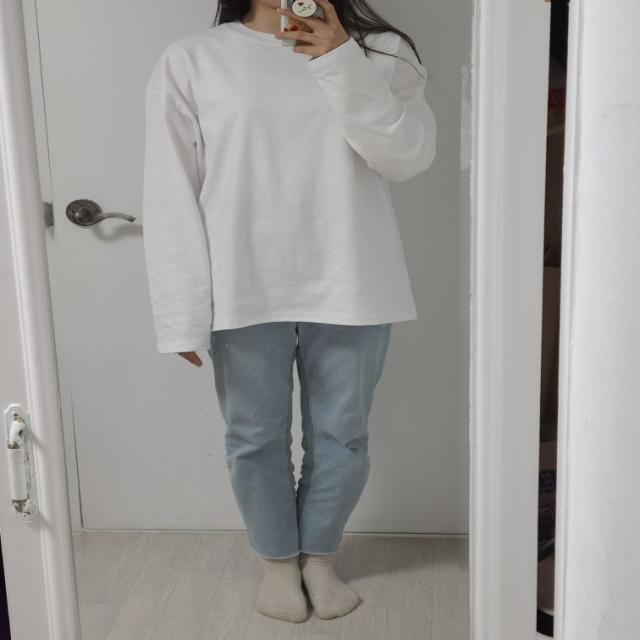denimpants: (210, 320, 393, 561)
longsleeve: (142, 19, 437, 357)
